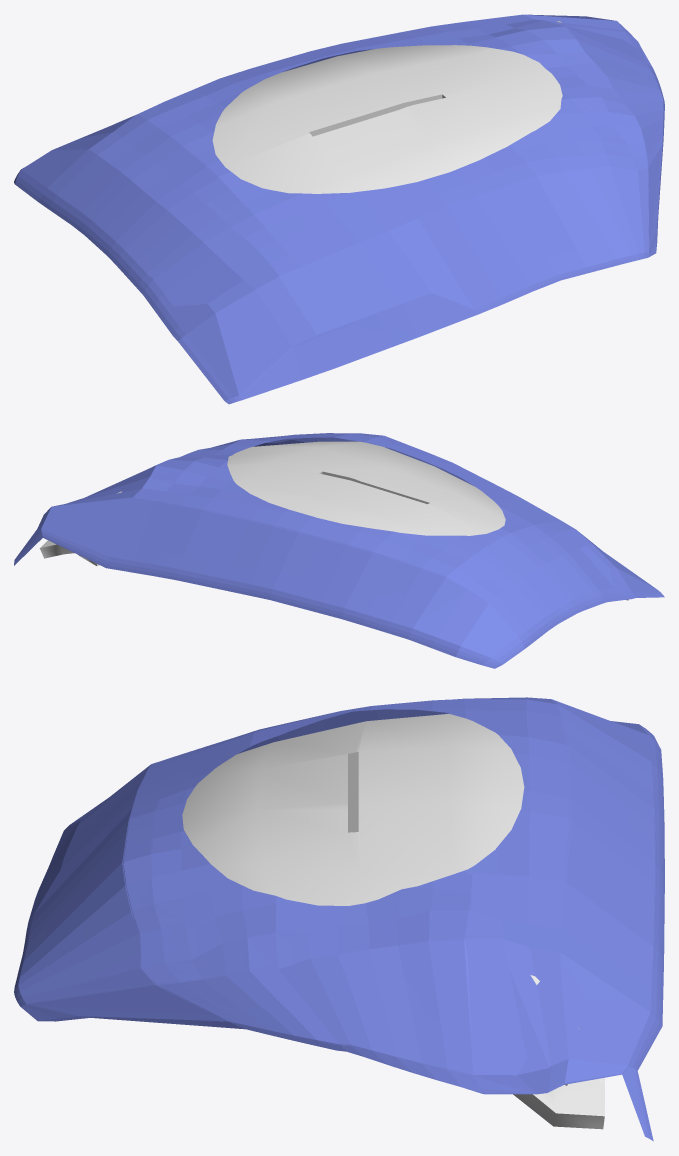
The model's file is sutura.fbx.
3 renders of one model, top to bottom at view 1: azimuth 30°, elevation 25°; view 2: azimuth 150°, elevation 25°; view 3: azimuth 270°, elevation 25°, orthographic. The views are drawn at different scales.
Parts seen in each view (by area): view 1: Plane, Epigastric region.l.003; view 2: Plane, Epigastric region.l.003; view 3: Plane, Epigastric region.l.003.
Part boxes in pixels (<box>): Plane: <box>14,14,664,404</box>; Epigastric region.l.003: <box>212,21,562,193</box>; Plane: <box>14,433,664,668</box>; Epigastric region.l.003: <box>39,441,628,600</box>; Plane: <box>14,697,664,1141</box>; Epigastric region.l.003: <box>182,714,604,1129</box>.
Size of the model in its own units: 151 by 38.18 by 106.
